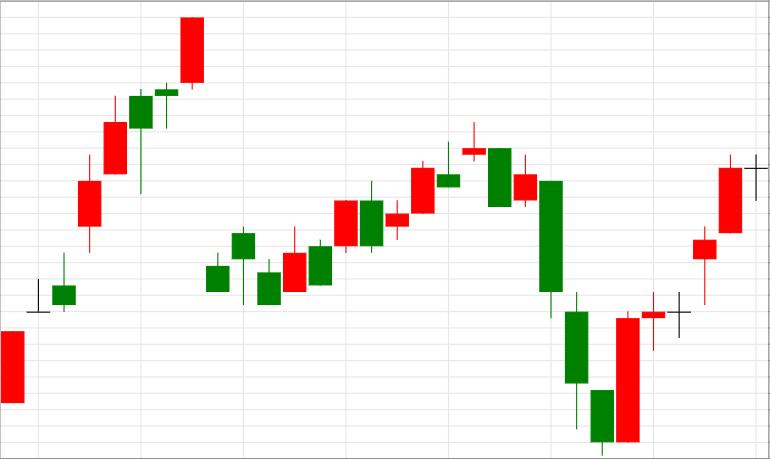hanging_man_fall: (1, 88, 152, 403)
